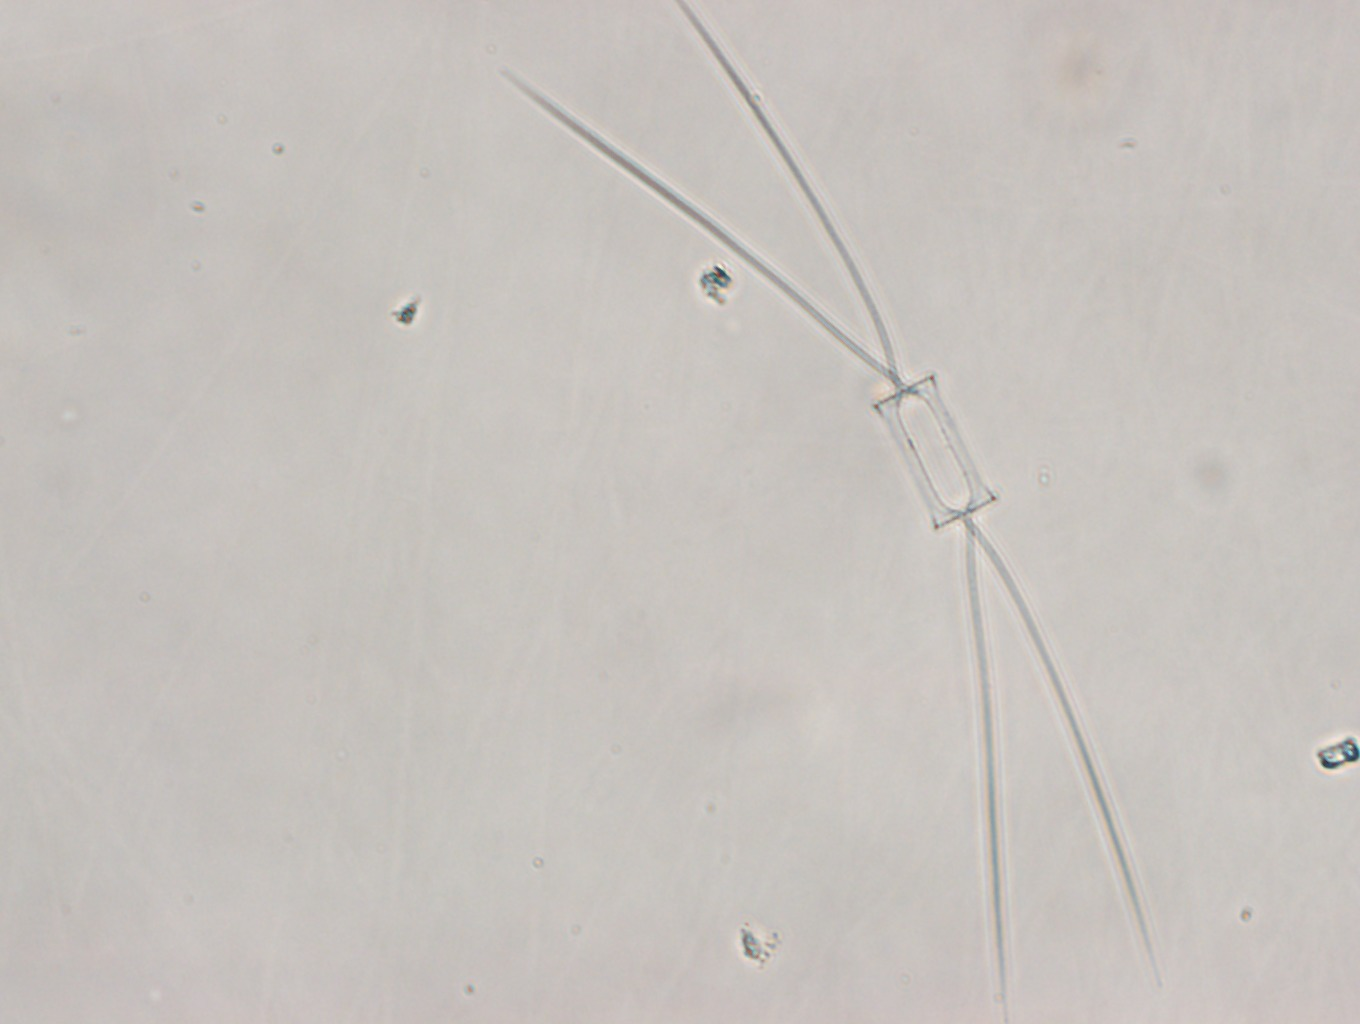chaetoceros: (493, 1, 1159, 1024)
